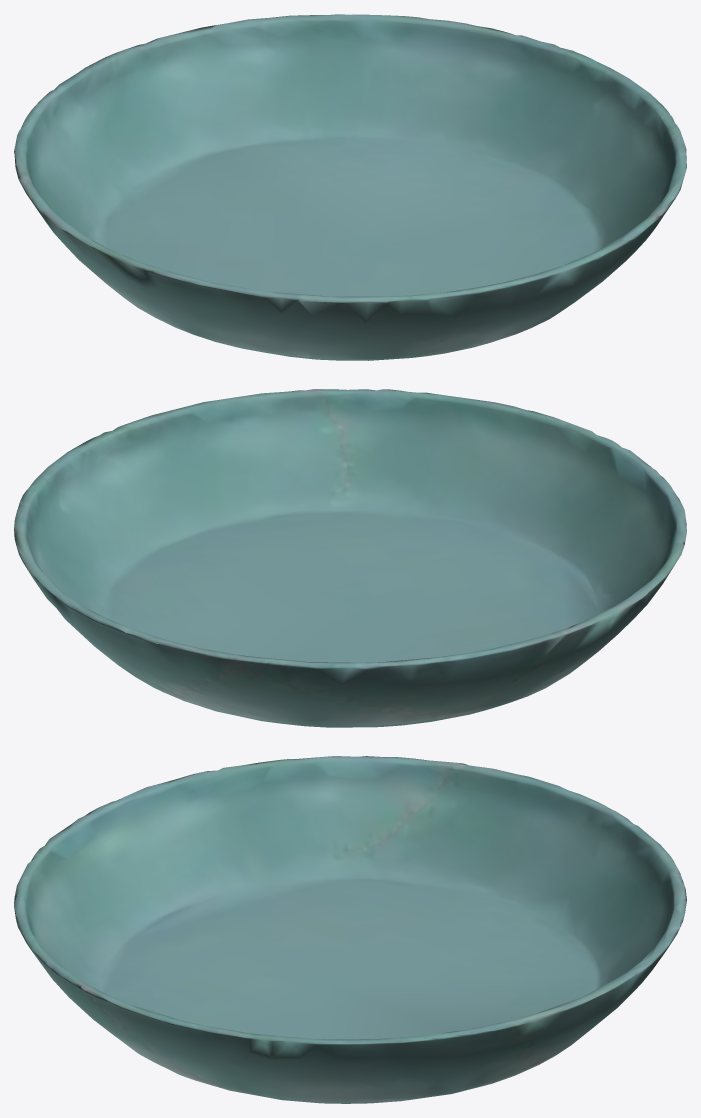
The model's file is Ecoforms_Plant_Container_S14Turquoise-high.glb.
3 renders of one model, top to bottom at view 1: azimuth 30°, elevation 25°; view 2: azimuth 150°, elevation 25°; view 3: azimuth 270°, elevation 25°, orthographic.
Parts seen in each view (by area): view 1: Ecoforms_Plant_Container_S14Turquoise; view 2: Ecoforms_Plant_Container_S14Turquoise; view 3: Ecoforms_Plant_Container_S14Turquoise.
Part boxes in pixels (left/top/right/bottom): Ecoforms_Plant_Container_S14Turquoise: left=14, top=14, right=686, bottom=360; Ecoforms_Plant_Container_S14Turquoise: left=14, top=389, right=686, bottom=727; Ecoforms_Plant_Container_S14Turquoise: left=14, top=756, right=686, bottom=1103.
Bounding box in the file's own units: 0.1474 × 0.0265 × 0.1475.
Materials: 1 (1 with a texture image).
